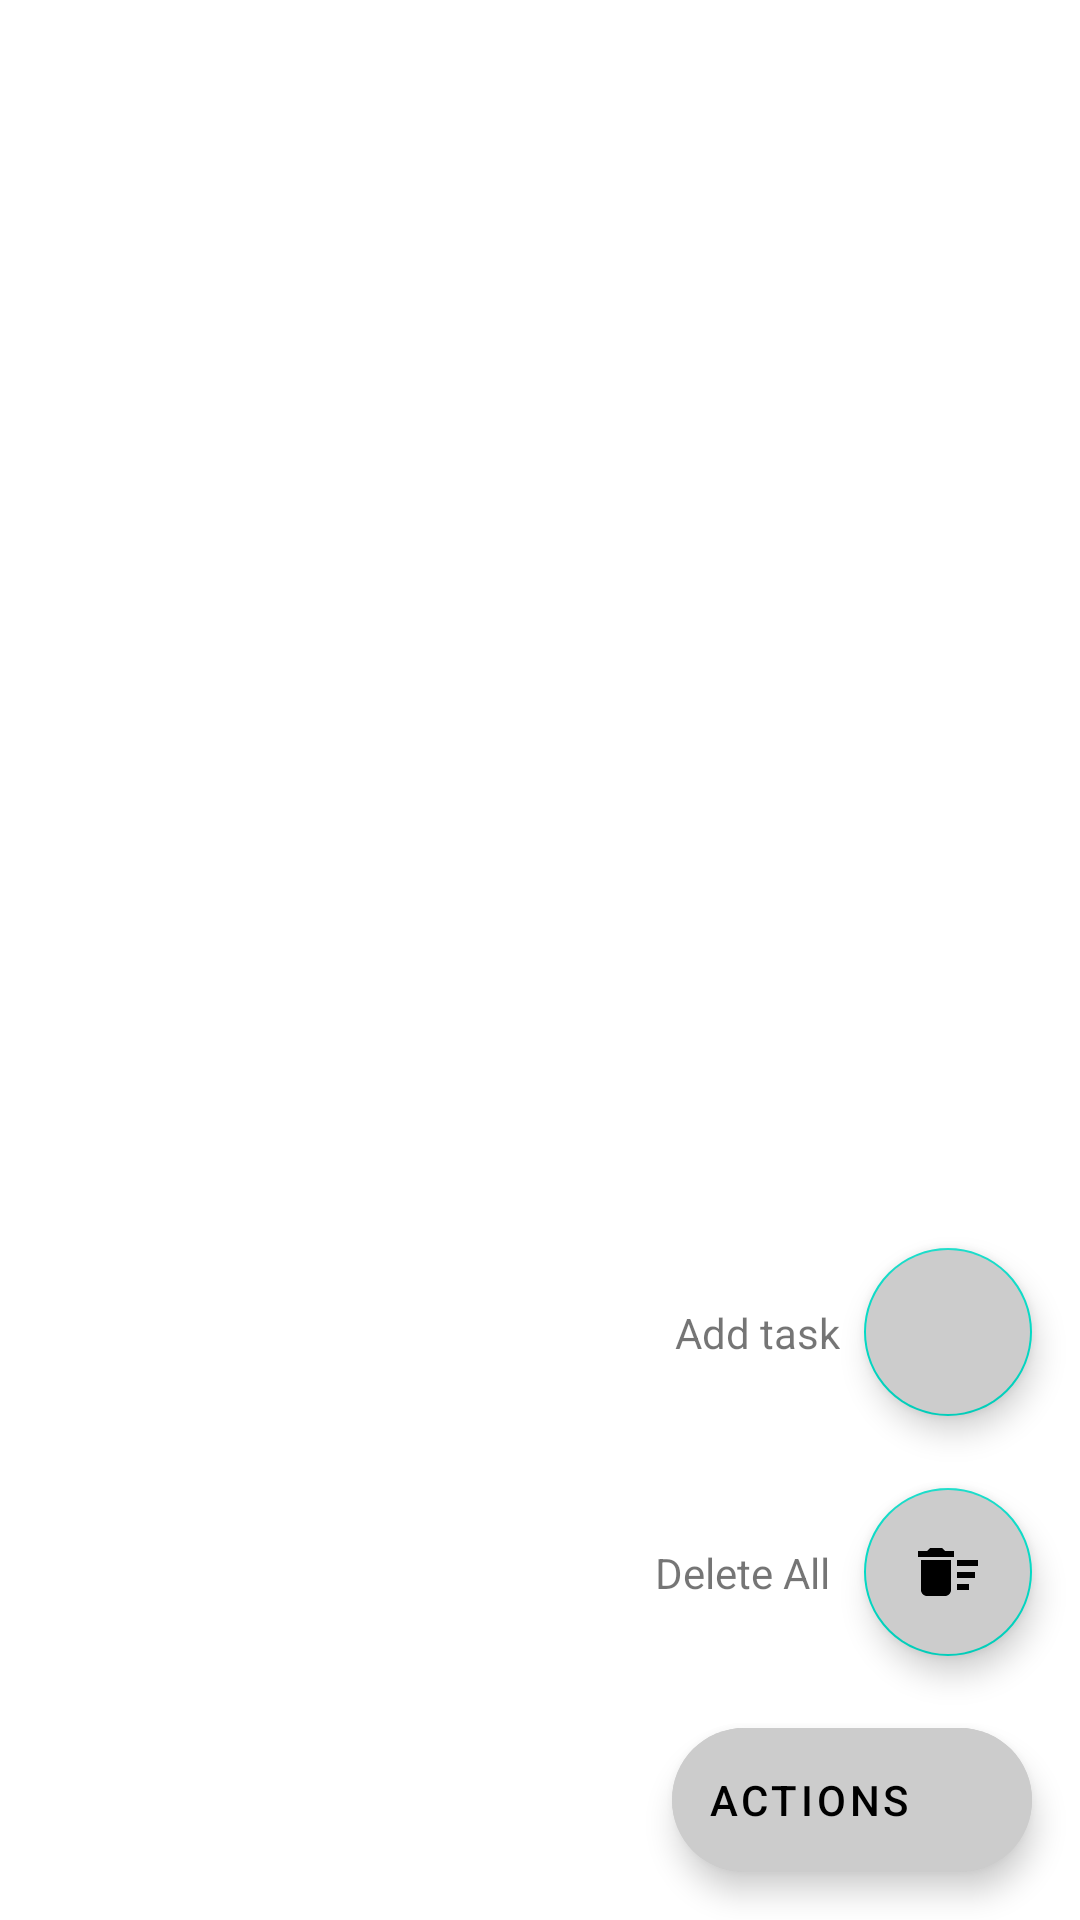

Screen size 1080*1920. Icon name, then its center in pixels as [x,y]:
delete sweep: [948,1572]
